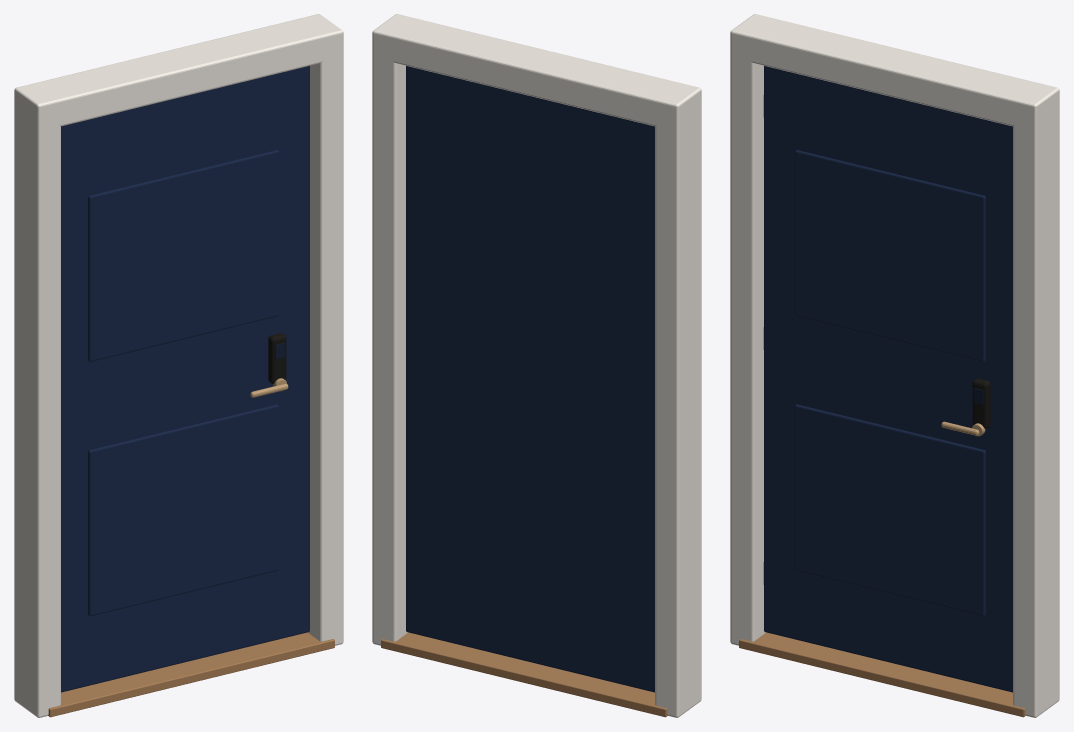
The model's file is 03_entrance.glb.
3 views of the same model, side by side, from view 1: azimuth 30°, elevation 25°; view 2: azimuth 150°, elevation 25°; view 3: azimuth 330°, elevation 25° (orthographic).
Visible parts, largest first — view 1: Door_Leaf, Door_Raised_Panel, Door_Raised_Panel.001, Door_Jamb, Door_Jamb.001, Door_Lintel, Door_Threshold, Door_Smart_Lock; view 2: Door_Leaf, Door_Jamb, Door_Jamb.001, Door_Lintel, Door_Threshold; view 3: Door_Leaf, Door_Raised_Panel, Door_Raised_Panel.001, Door_Jamb.001, Door_Jamb, Door_Lintel, Door_Threshold, Door_Smart_Lock.
Boxes of the visible parts, left/top/right/bottom form: Door_Leaf: left=61, top=66, right=309, bottom=692; Door_Raised_Panel: left=88, top=404, right=278, bottom=616; Door_Raised_Panel.001: left=88, top=150, right=278, bottom=361; Door_Jamb: left=14, top=107, right=60, bottom=717; Door_Jamb.001: left=308, top=49, right=343, bottom=645; Door_Lintel: left=14, top=14, right=343, bottom=130; Door_Threshold: left=48, top=632, right=334, bottom=717; Door_Smart_Lock: left=268, top=333, right=286, bottom=383; Door_Leaf: left=406, top=66, right=654, bottom=692; Door_Jamb: left=655, top=107, right=701, bottom=717; Door_Jamb.001: left=372, top=50, right=407, bottom=645; Door_Lintel: left=372, top=14, right=701, bottom=129; Door_Threshold: left=381, top=632, right=667, bottom=717; Door_Leaf: left=764, top=66, right=1012, bottom=692; Door_Raised_Panel: left=795, top=404, right=985, bottom=616; Door_Raised_Panel.001: left=795, top=150, right=985, bottom=361; Door_Jamb.001: left=1013, top=107, right=1059, bottom=717; Door_Jamb: left=730, top=50, right=765, bottom=645; Door_Lintel: left=730, top=14, right=1059, bottom=130; Door_Threshold: left=739, top=632, right=1025, bottom=717; Door_Smart_Lock: left=972, top=378, right=990, bottom=429.
Size of the model in its own units: 1.16 by 2.22 by 0.181.
